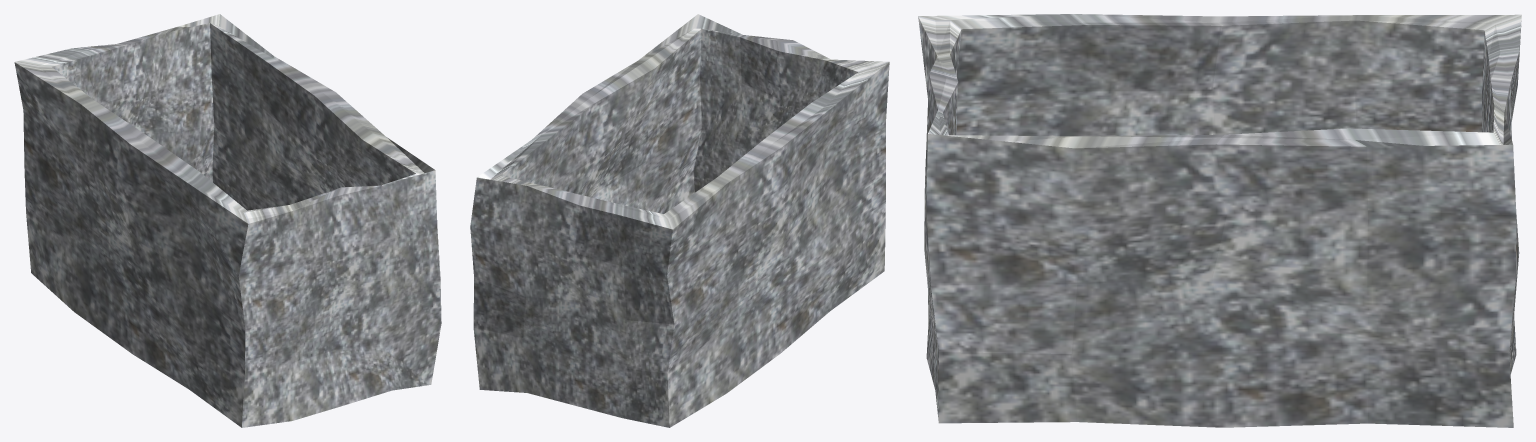
The model's file is manger.glb.
3 views of the same model, side by side, from view 1: azimuth 30°, elevation 25°; view 2: azimuth 150°, elevation 25°; view 3: azimuth 270°, elevation 25° (orthographic). The views are drawn at different scales.
Visible parts, largest first — view 1: Cube; view 2: Cube; view 3: Cube.
Boxes of the visible parts, left/top/right/bottom form: Cube: left=14, top=14, right=441, bottom=427; Cube: left=470, top=14, right=889, bottom=427; Cube: left=918, top=14, right=1521, bottom=427.
Size of the model in its own units: 2.1 by 2.12 by 3.96.
Materials: 1 (1 with a texture image).
